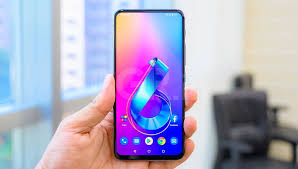asus: (112, 7, 185, 161)
